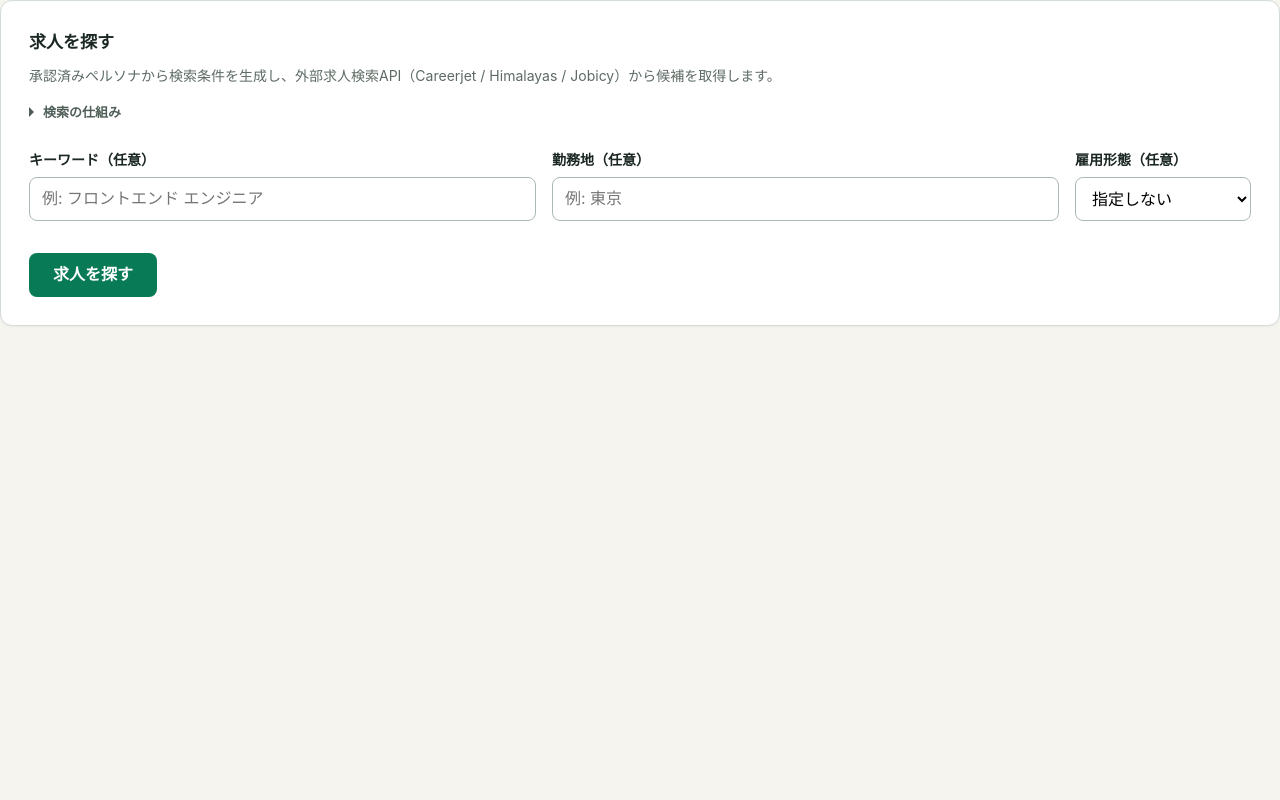
Test: JobDiscovery bulk import (#116) › selects multiple and bulk imports with success
Click the button "求人を探す": {"x": 93, "y": 275} [29,253,157,297]
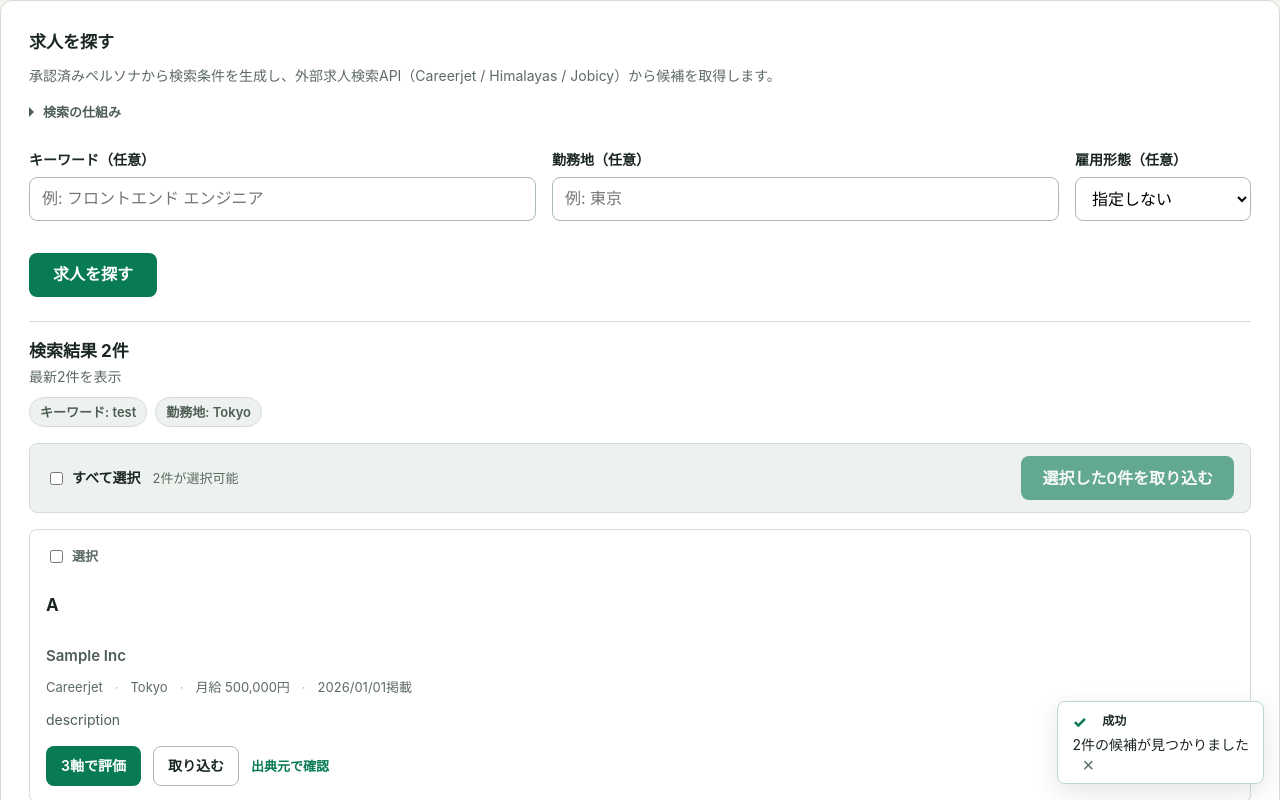
Now the heading "A" is shown, box [46,595,59,615]
Note: select both
Click the checkbox named "A を選択": {"x": 56, "y": 557} [50,550,63,563]
(page scrolled)
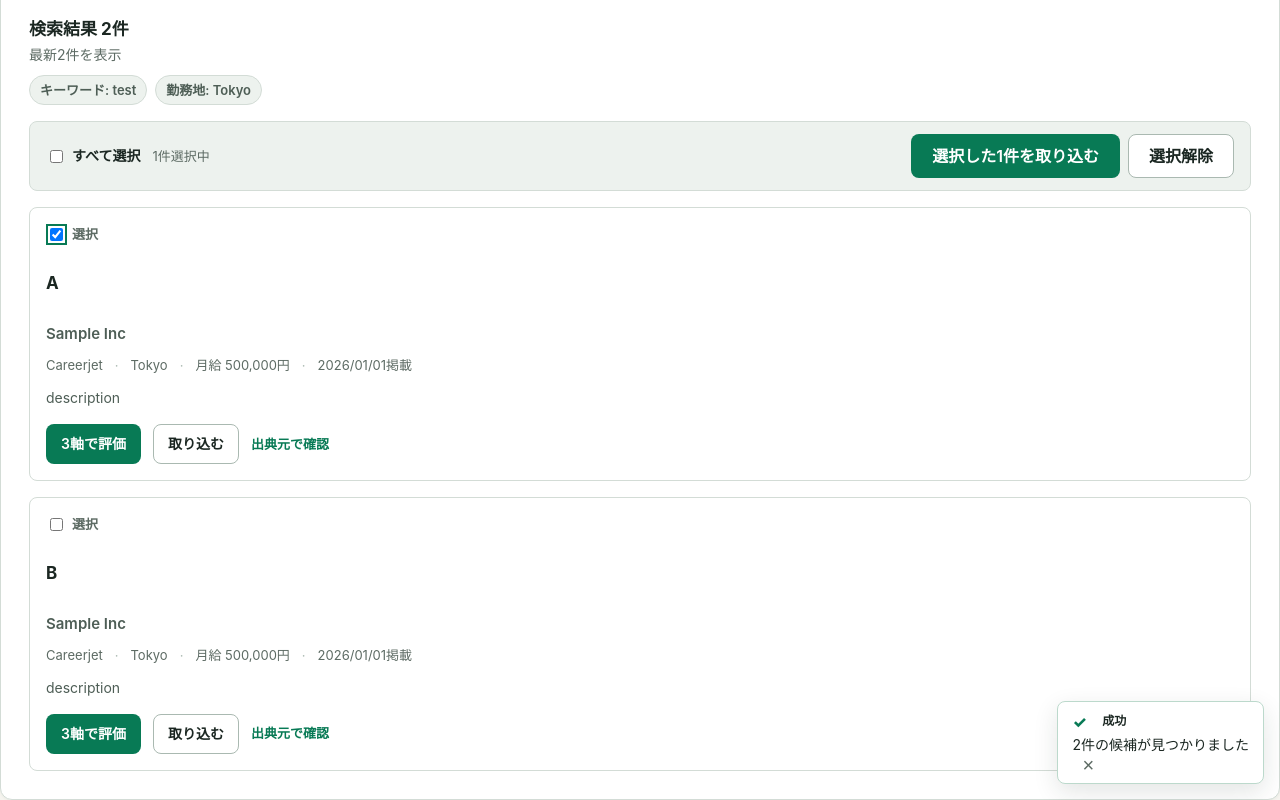
Click the checkbox named "B を選択": {"x": 56, "y": 524} [50,518,63,531]
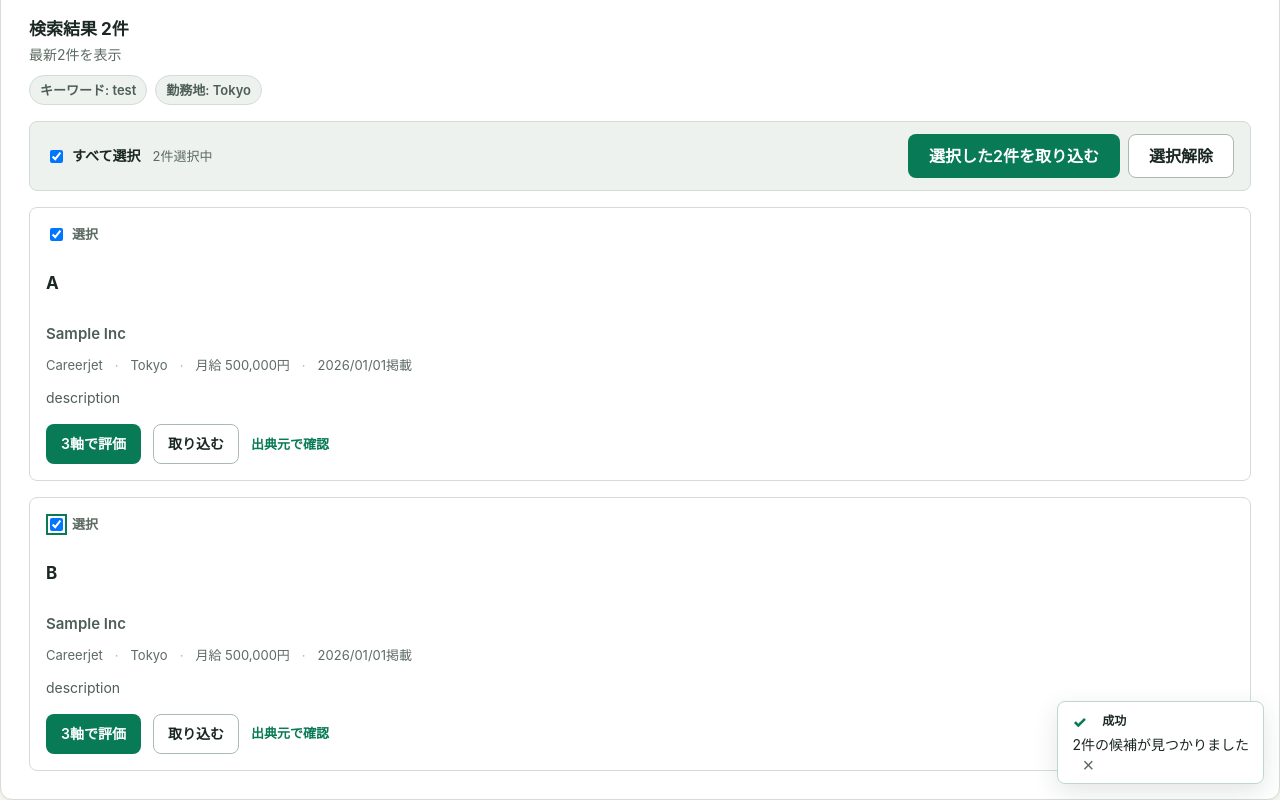
Now the text "2件選択中" is shown, box [152,146,212,167]
Click the button "選択した2件を取り込む": {"x": 1014, "y": 156} [908,134,1120,178]
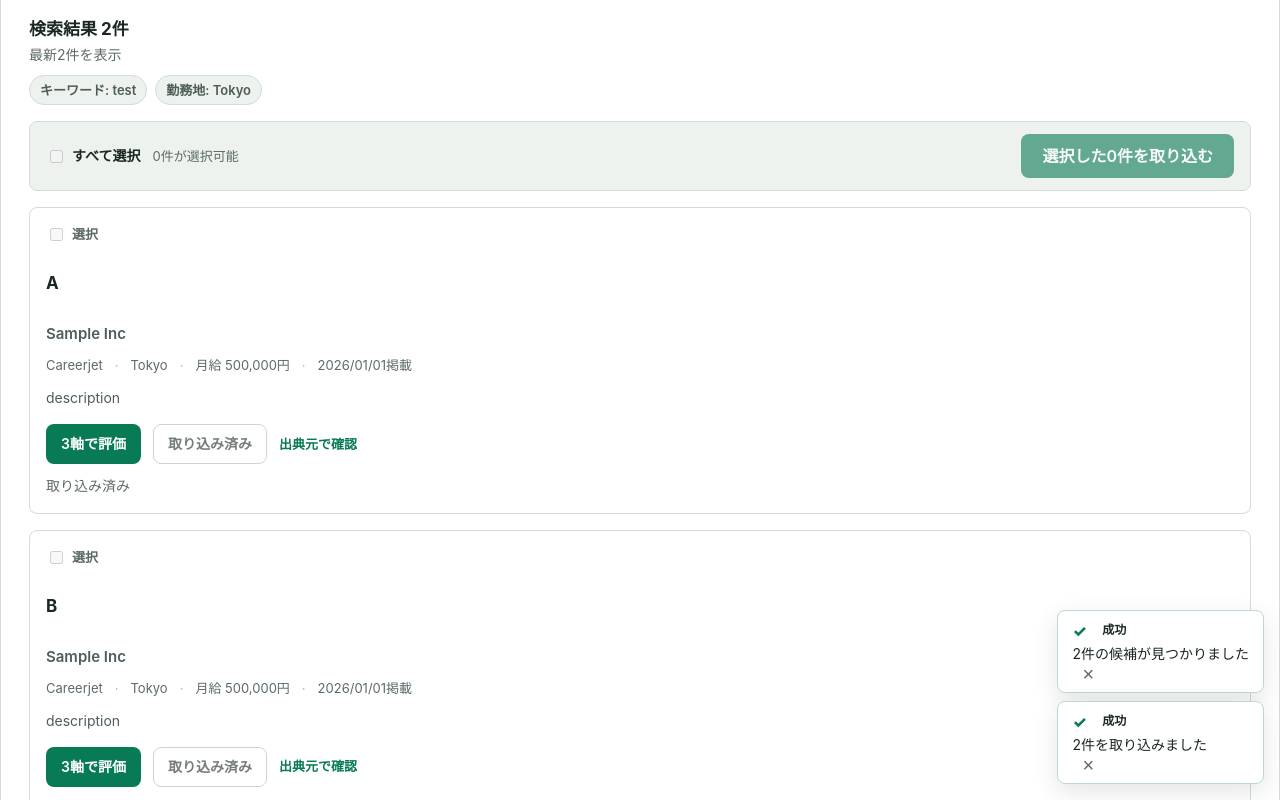
Now the button "選択した0件を取り込む" is shown, box [1021,134,1234,178]
